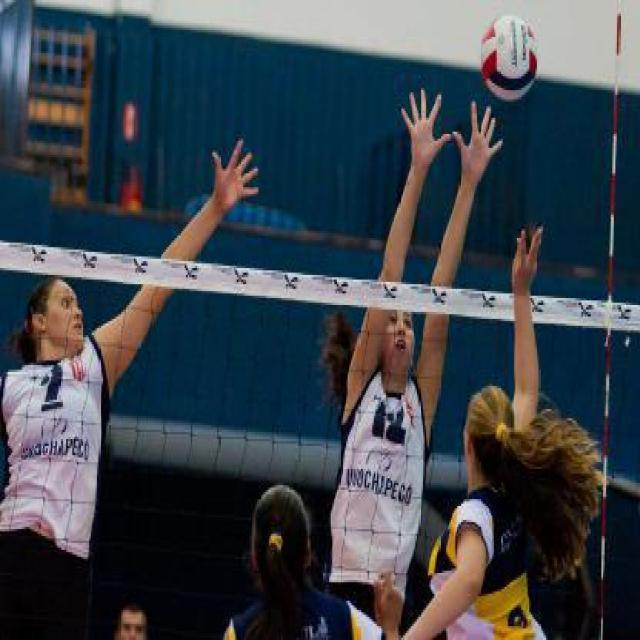volleyball: (480, 14, 540, 102)
